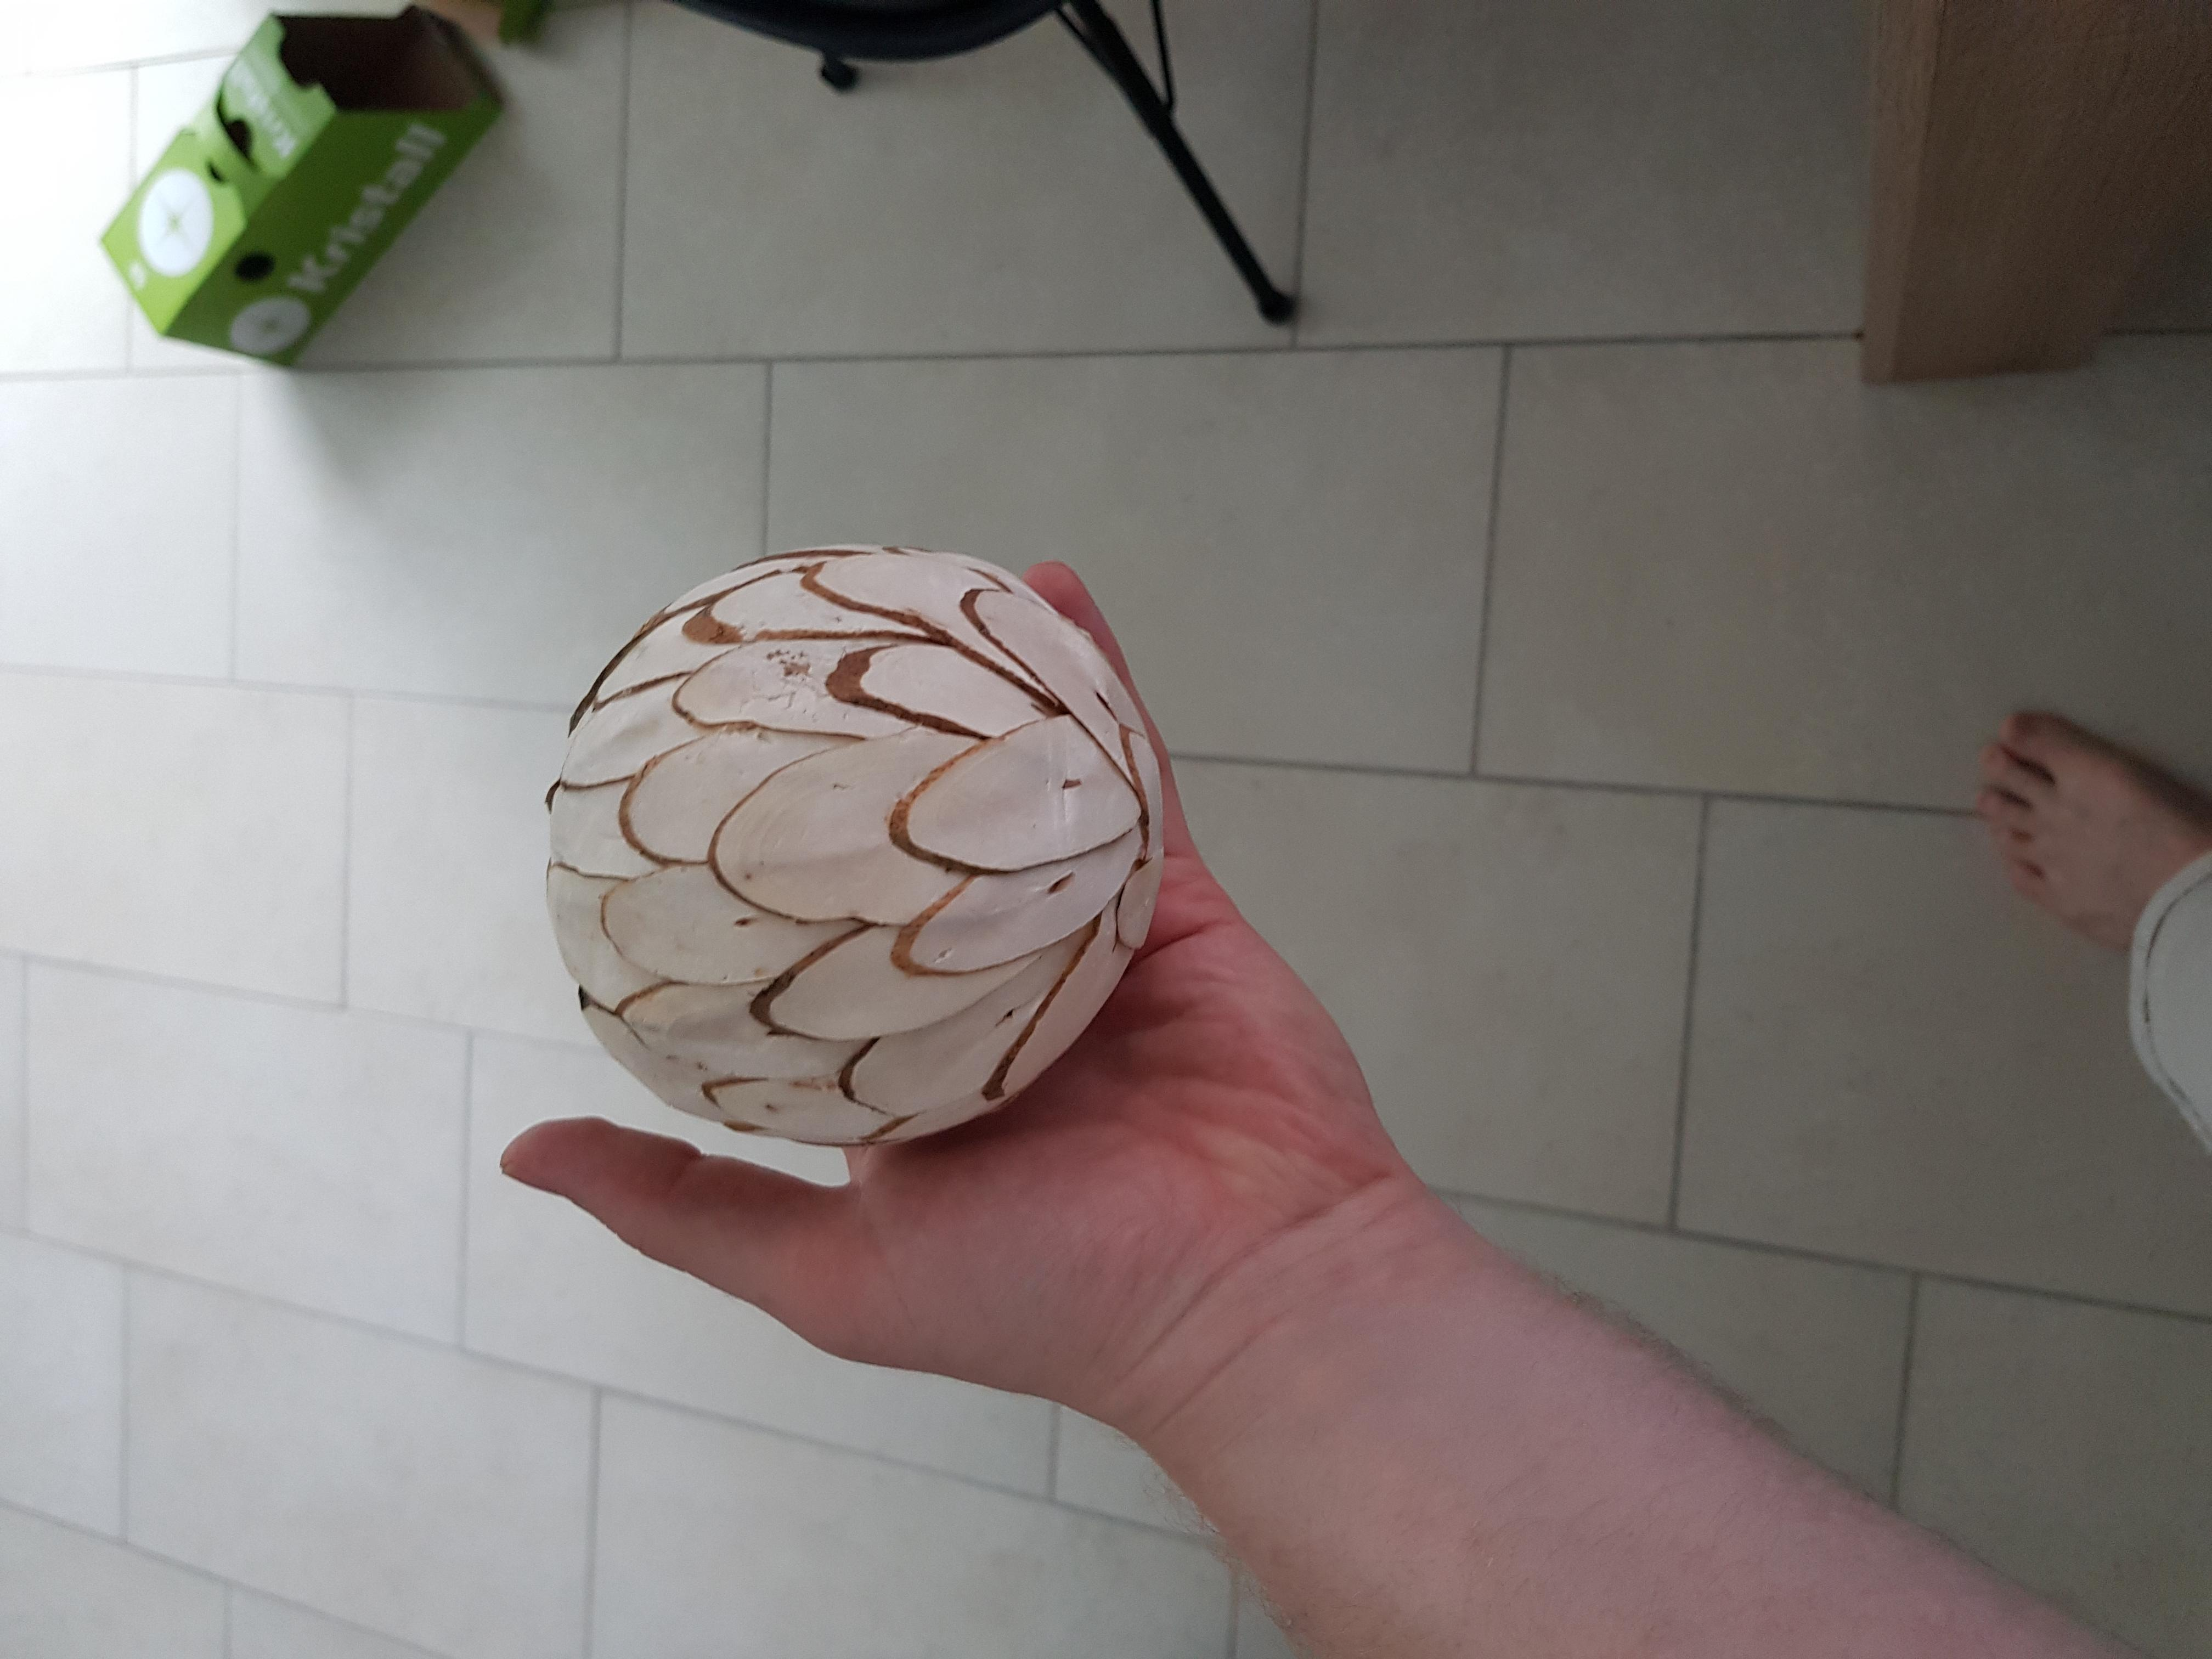sphere: (529, 537, 1141, 1155)
